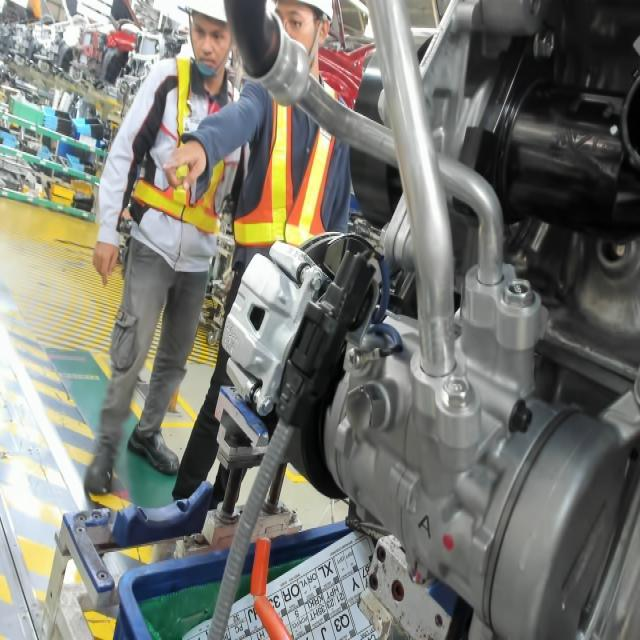Compressor-A: (414, 512, 436, 542)
